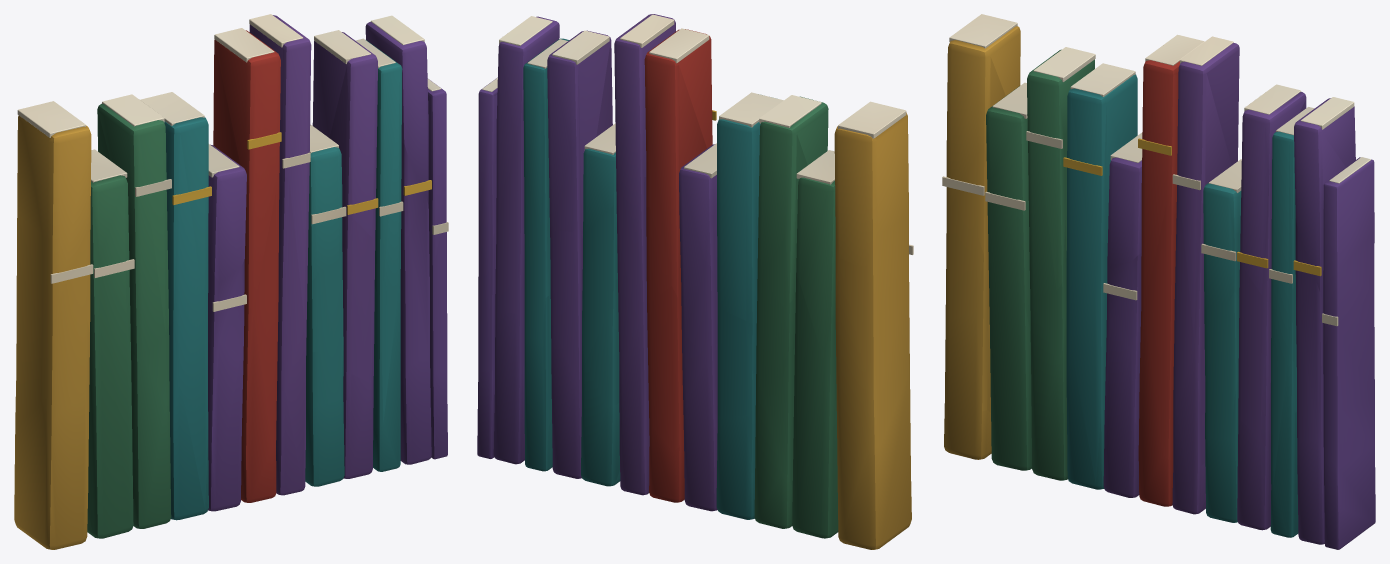
Rendered from den_book_wall_lod1.glb.
3 views of the same model, side by side, from view 1: azimuth 30°, elevation 25°; view 2: azimuth 150°, elevation 25°; view 3: azimuth 330°, elevation 25° (orthographic).
Parts seen in each view (by area): view 1: den_book_wall.001; view 2: den_book_wall.001; view 3: den_book_wall.001.
Boxes of the visible parts, box(x1,y1,x2,y2) form: den_book_wall.001: box(14, 14, 448, 549); den_book_wall.001: box(477, 14, 913, 549); den_book_wall.001: box(942, 14, 1375, 549).
Size of the model in its own units: 24.12 by 26 by 4.07.
